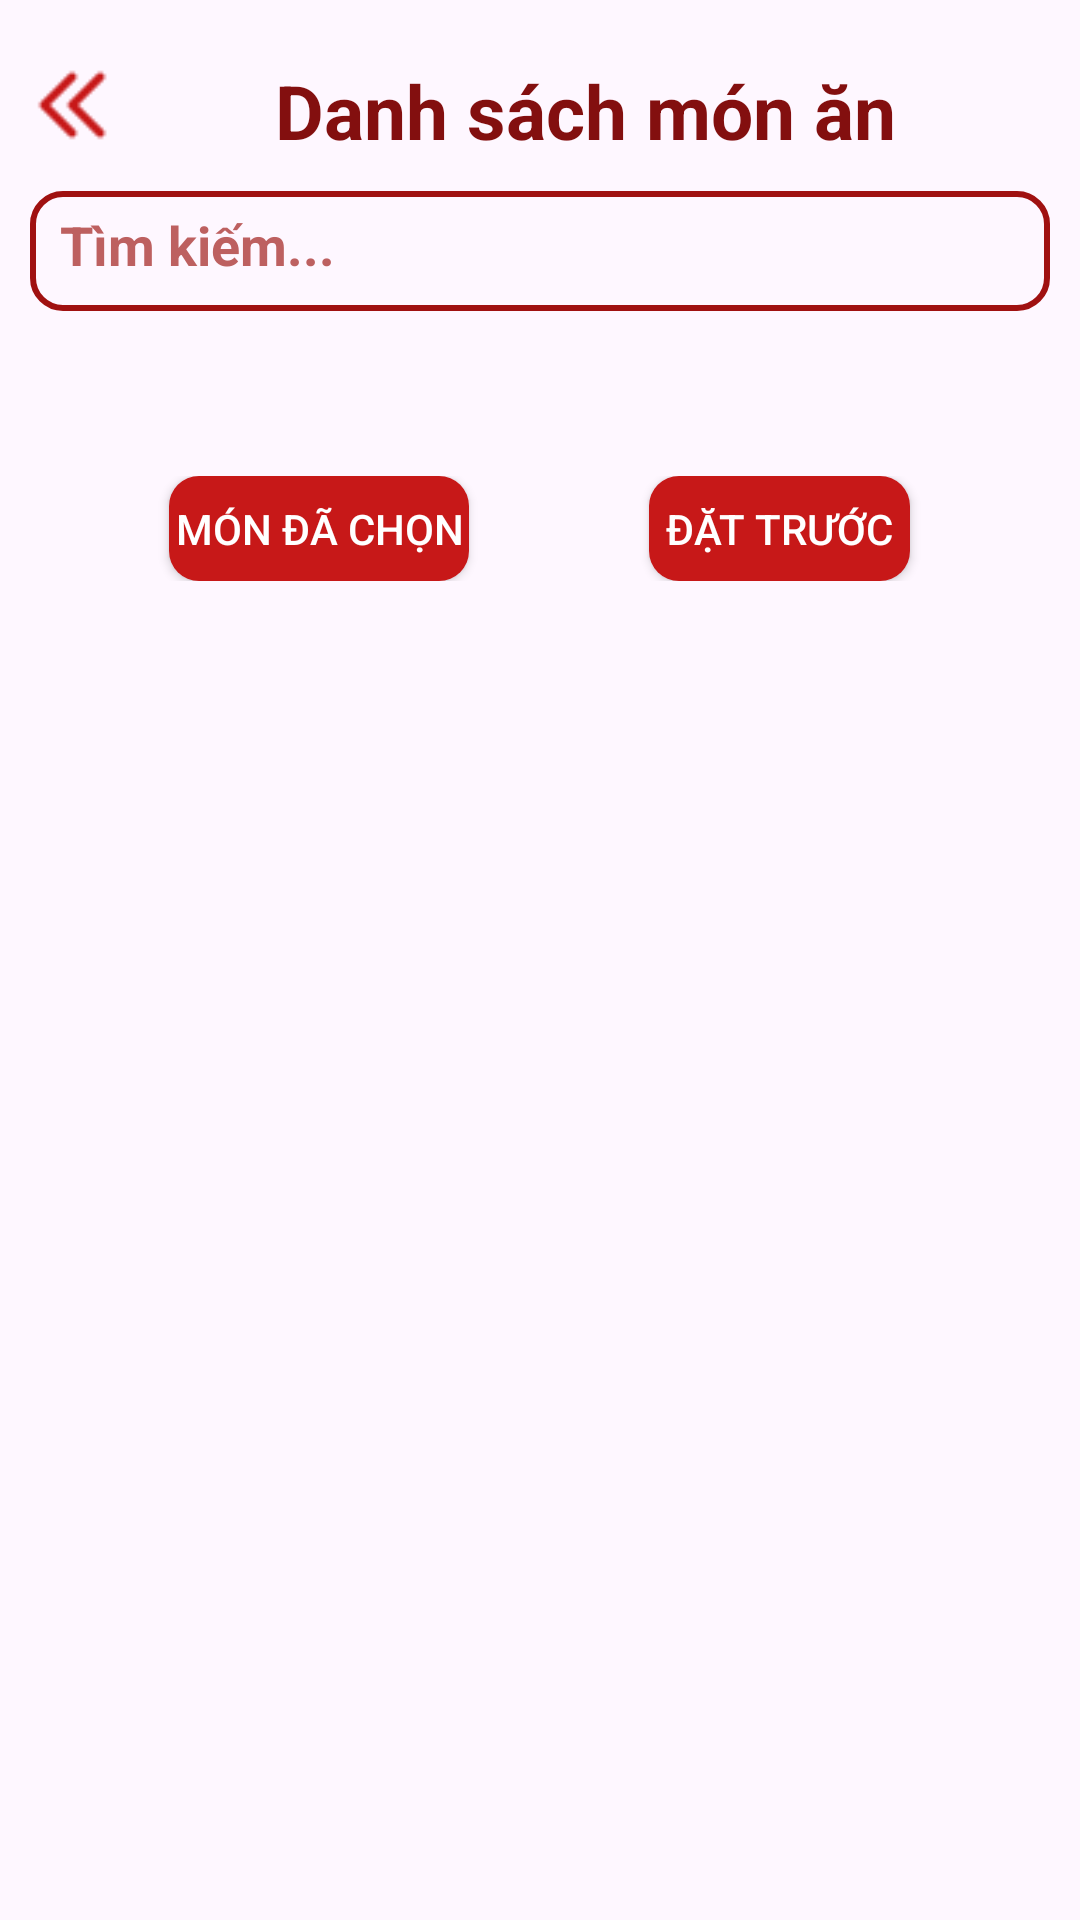

Named icons in this screenshot (1080×1920) and their centers, [x,y]:
Back button: [72,105]
